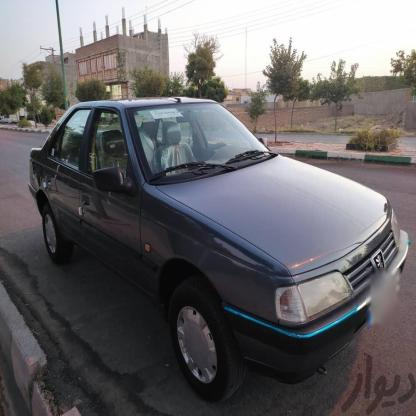Car: (34, 91, 385, 387)
